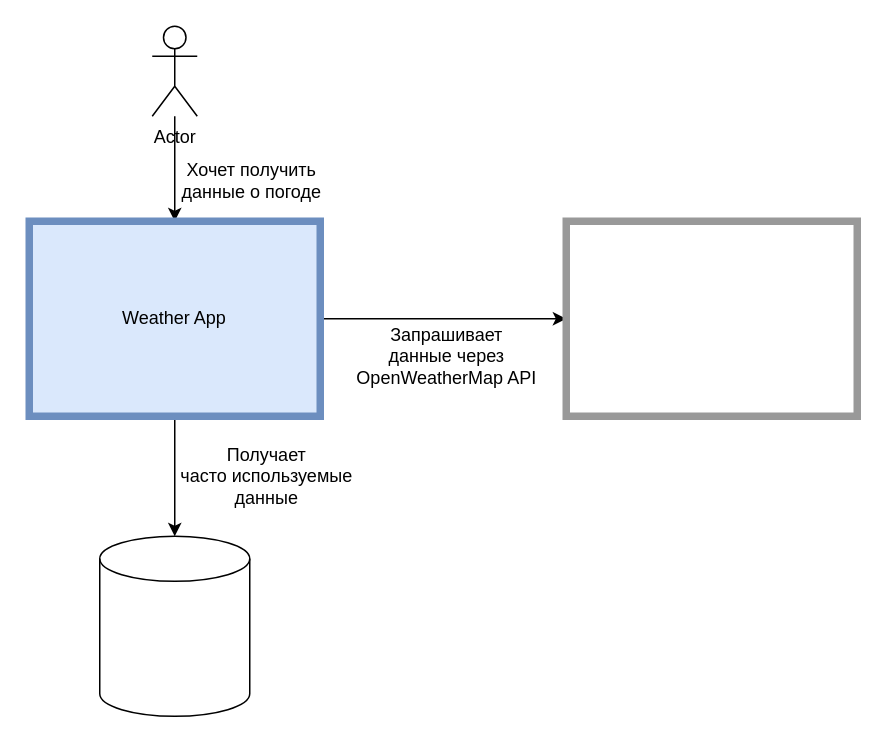
This 887x743 diagram has some shape labels left out. The shapes that lost their labels are listed below. From the top down, each one's box as (x1, y1, x2, y2) in pixels, then its label:
(562, 217, 860, 419): OpenWeatherMap
(98, 535, 250, 716): PostgreSQL
